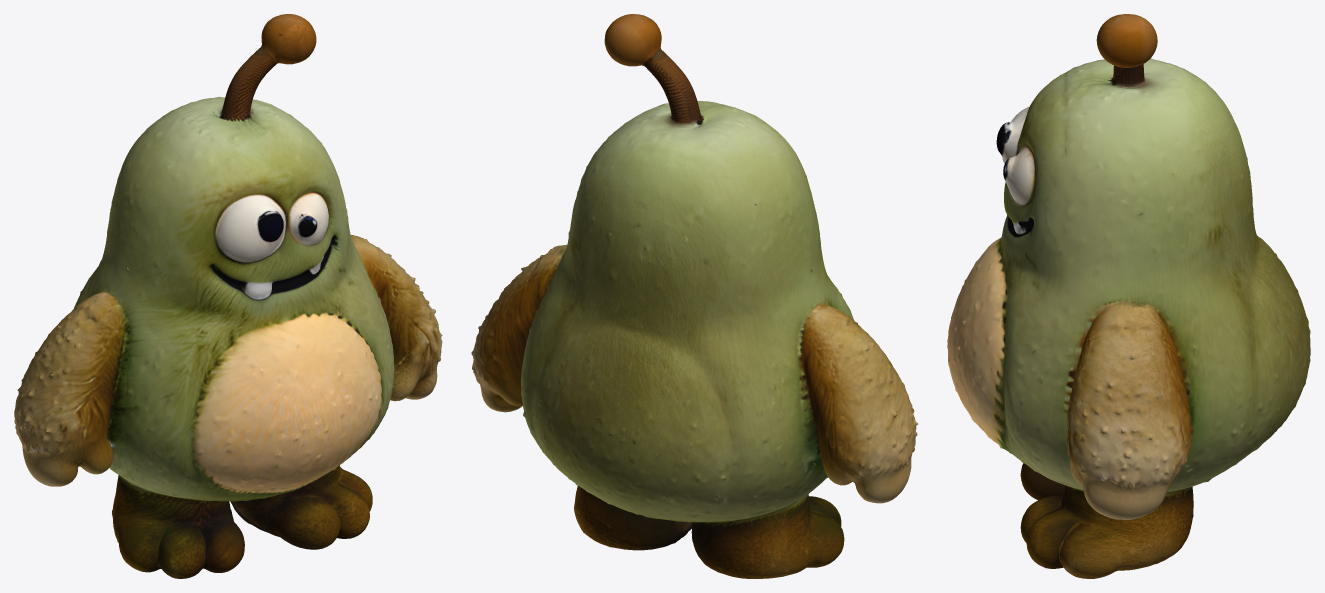
File: blob_mascot.glb
3 renders of one model, left to right at view 1: azimuth 30°, elevation 25°; view 2: azimuth 150°, elevation 25°; view 3: azimuth 270°, elevation 25°, orthographic. The views are drawn at different scales.
Visible parts, largest first — view 1: material.001; view 2: material.001; view 3: material.001.
Boxes of the visible parts, x1=… form: material.001: x1=14, y1=14, x2=442, y2=578; material.001: x1=471, y1=14, x2=918, y2=578; material.001: x1=947, y1=14, x2=1310, y2=578.
Size of the model in its own units: 0.9349 by 1.09 by 0.6671.
1 material, 1 textured.
